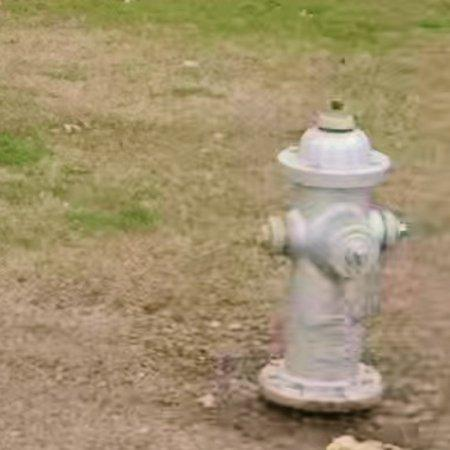a fire hydrant: (260, 113, 402, 413)
